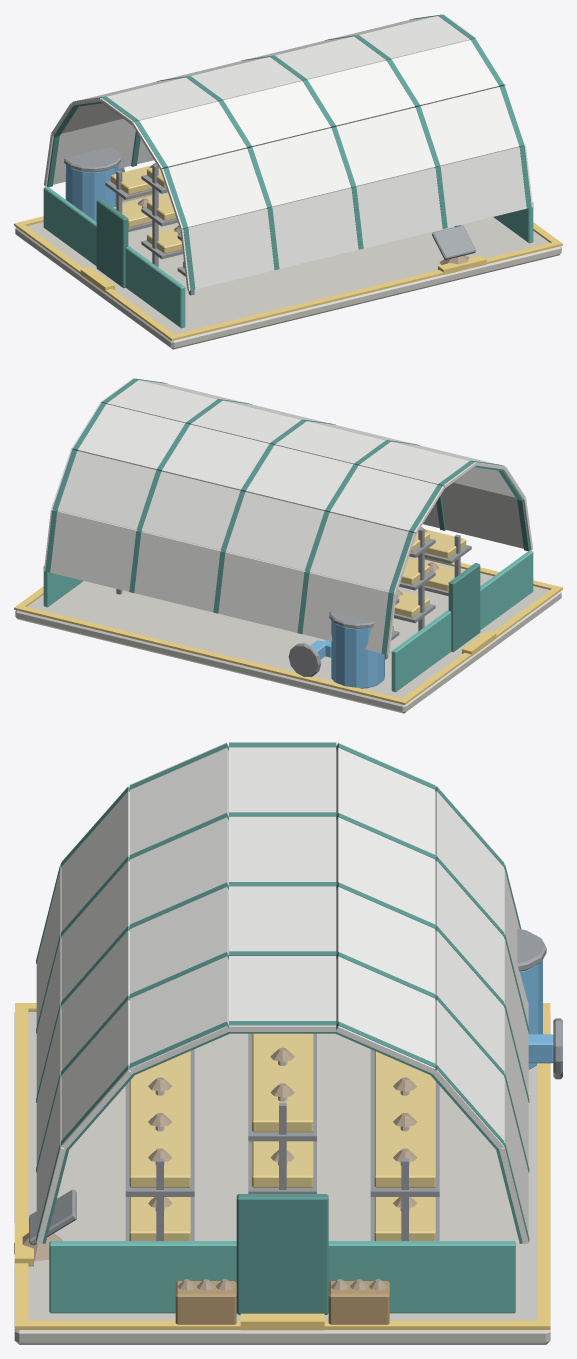
Rendered from MushroomHouse.fbx.
The picture shows the model from 3 angles, top to bottom: view 1: azimuth 30°, elevation 25°; view 2: azimuth 150°, elevation 25°; view 3: azimuth 270°, elevation 25°; orthographic projection. The views are drawn at different scales.
Parts seen in each view (by area): view 1: MH_Film6, MH_Film7, MH_Base, MH_Film5, MH_Film4, MH_WallW, MH_Film1, MH_DoorW, MH_EdgeS, MH_Tank, MH_Film3, MH_EdgeW (+10 smaller); view 2: MH_Film2, MH_Film1, MH_Base, MH_Film3, MH_Film4, MH_WallW, MH_Film7, MH_Tank, MH_EdgeN, MH_DoorW, MH_Film5, MH_EdgeW (+10 smaller); view 3: MH_Base, MH_Film4, MH_Film3, MH_Film5, MH_WallE, MH_Film2, MH_Film6, MH_DoorE, MH_Film7, MH_Film1, MH_Bed3_2, MH_Bed1_2 (+21 smaller).
Part boxes in pixels (<box>): MH_Film6: <box>160,85,525,229</box>; MH_Film7: <box>180,145,532,290</box>; MH_Base: <box>15,192,561,349</box>; MH_Film5: <box>132,38,505,169</box>; MH_Film4: <box>100,14,476,124</box>; MH_WallW: <box>43,186,185,328</box>; MH_Film1: <box>44,118,153,186</box>; MH_DoorW: <box>96,199,128,288</box>; MH_EdgeS: <box>168,241,562,340</box>; MH_Tank: <box>65,164,118,221</box>; MH_Film3: <box>71,14,443,105</box>; MH_EdgeW: <box>18,224,174,337</box>; MH_Film2: <box>51,449,416,593</box>; MH_Film1: <box>44,509,396,654</box>; MH_Base: <box>15,556,561,713</box>; MH_Film3: <box>71,402,444,533</box>; MH_Film4: <box>100,378,476,488</box>; MH_WallW: <box>391,550,533,692</box>; MH_Film7: <box>423,482,532,550</box>; MH_Tank: <box>331,620,384,688</box>; MH_EdgeN: <box>14,605,408,704</box>; MH_DoorW: <box>448,563,480,652</box>; MH_Film5: <box>133,378,505,469</box>; MH_EdgeW: <box>402,588,558,701</box>; MH_Base: <box>14,1012,550,1344</box>; MH_Film4: <box>229,742,336,1031</box>; MH_Film3: <box>336,742,435,1073</box>; MH_Film5: <box>130,742,228,1073</box>; MH_WallE: <box>49,1241,515,1313</box>; MH_Film2: <box>432,786,503,1149</box>; MH_Film6: <box>61,786,132,1149</box>; MH_DoorE: <box>236,1194,328,1314</box>; MH_Film7: <box>36,863,65,1244</box>; MH_Film1: <box>499,863,528,1244</box>; MH_Bed3_2: <box>374,1051,435,1187</box>; MH_Bed1_2: <box>129,1051,190,1187</box>.
Bounding box in the file's own units: 20 × 8.69 × 14.35.
